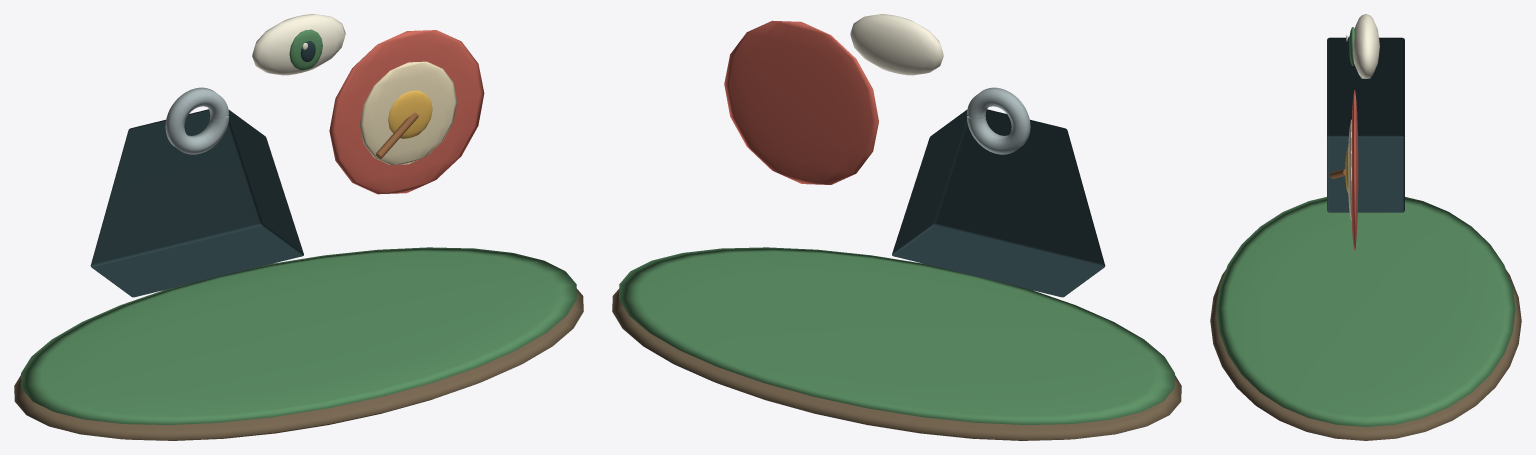
File: complete-second-heavy-dot-focus.glb
3 renders of one model, left to right at view 1: azimuth 30°, elevation 25°; view 2: azimuth 150°, elevation 25°; view 3: azimuth 270°, elevation 25°, orthographic. The views are drawn at different scales.
Parts seen in each view (by area): view 1: complete-second-heavy-dot-focus_surface_01, complete-second-heavy-dot-focus_surface_02, complete-second-heavy-dot-focus_surface_04, complete-second-heavy-dot-focus_surface_00, complete-second-heavy-dot-focus_surface_05, complete-second-heavy-dot-focus_surface_08, complete-second-heavy-dot-focus_surface_03, complete-second-heavy-dot-focus_surface_06; view 2: complete-second-heavy-dot-focus_surface_01, complete-second-heavy-dot-focus_surface_02, complete-second-heavy-dot-focus_surface_04, complete-second-heavy-dot-focus_surface_00, complete-second-heavy-dot-focus_surface_08, complete-second-heavy-dot-focus_surface_03; view 3: complete-second-heavy-dot-focus_surface_01, complete-second-heavy-dot-focus_surface_02, complete-second-heavy-dot-focus_surface_00, complete-second-heavy-dot-focus_surface_08, complete-second-heavy-dot-focus_surface_04, complete-second-heavy-dot-focus_surface_05.
Boxes of the visible parts, x1,y1,x2,y2 form: complete-second-heavy-dot-focus_surface_01: [21, 29, 576, 424]; complete-second-heavy-dot-focus_surface_02: [90, 41, 315, 297]; complete-second-heavy-dot-focus_surface_04: [329, 30, 484, 194]; complete-second-heavy-dot-focus_surface_00: [14, 288, 583, 440]; complete-second-heavy-dot-focus_surface_05: [360, 61, 457, 164]; complete-second-heavy-dot-focus_surface_08: [252, 14, 345, 75]; complete-second-heavy-dot-focus_surface_03: [165, 87, 229, 154]; complete-second-heavy-dot-focus_surface_06: [388, 90, 432, 138]; complete-second-heavy-dot-focus_surface_01: [619, 247, 1174, 424]; complete-second-heavy-dot-focus_surface_02: [892, 109, 1105, 297]; complete-second-heavy-dot-focus_surface_04: [724, 20, 878, 184]; complete-second-heavy-dot-focus_surface_00: [612, 288, 1181, 440]; complete-second-heavy-dot-focus_surface_08: [850, 14, 943, 75]; complete-second-heavy-dot-focus_surface_03: [966, 87, 1030, 154]; complete-second-heavy-dot-focus_surface_01: [1216, 27, 1515, 426]; complete-second-heavy-dot-focus_surface_02: [1327, 36, 1404, 212]; complete-second-heavy-dot-focus_surface_00: [1210, 270, 1521, 440]; complete-second-heavy-dot-focus_surface_08: [1346, 14, 1379, 78]; complete-second-heavy-dot-focus_surface_04: [1351, 90, 1358, 250]; complete-second-heavy-dot-focus_surface_05: [1348, 119, 1351, 220].
Size of the model in its own units: 4.56 by 2.78 by 2.5.
